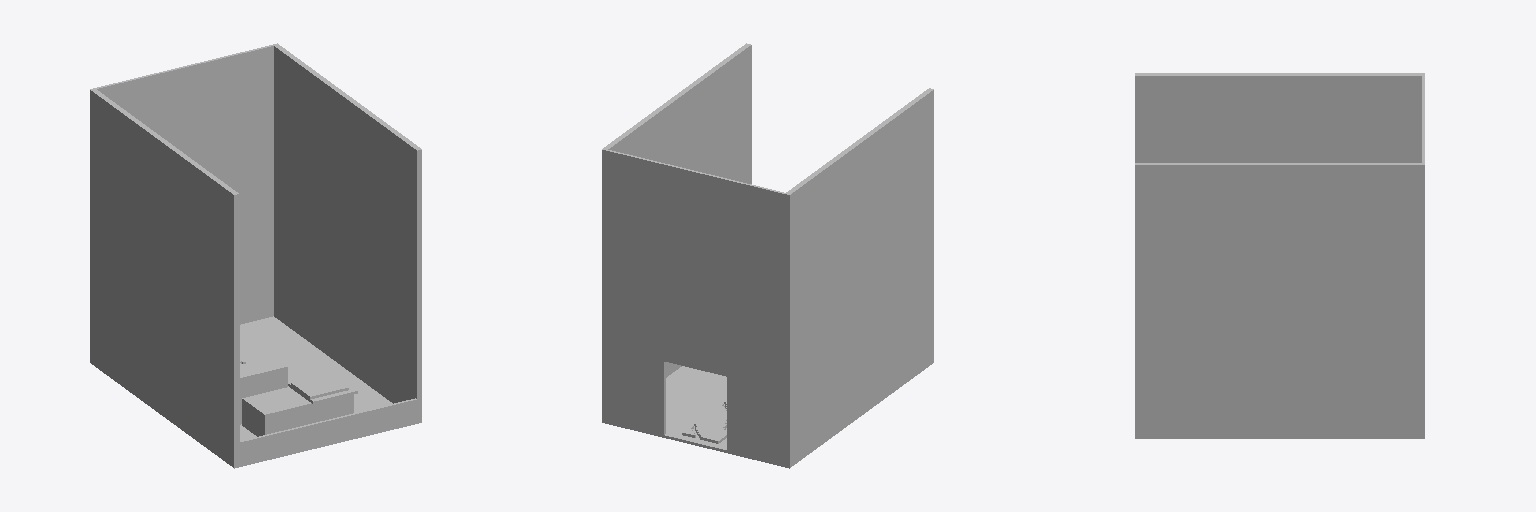
The model's file is Tutorial Map V1.0-9.obj.
3 renders of one model, left to right at view 1: azimuth 30°, elevation 25°; view 2: azimuth 150°, elevation 25°; view 3: azimuth 270°, elevation 25°, orthographic.
Visible parts, largest first — view 1: object 1; view 2: object 1; view 3: object 1.
Boxes of the visible parts, x1=… form: object 1: x1=90, y1=43, x2=421, y2=468; object 1: x1=602, y1=43, x2=933, y2=468; object 1: x1=1135, y1=73, x2=1424, y2=438.
Size of the model in its own units: 7.2 by 10 by 9.6.